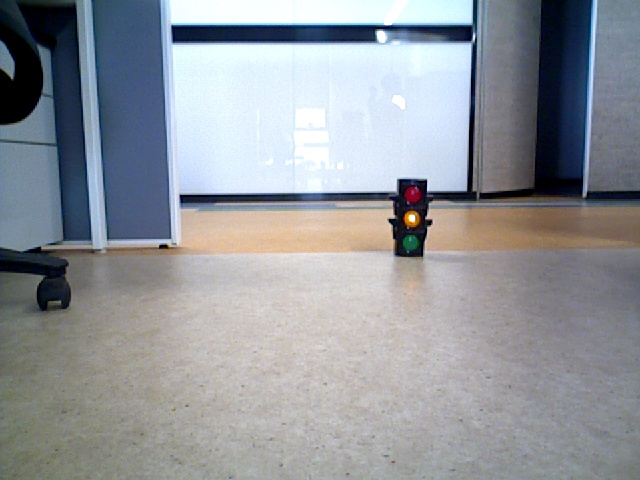yellow: (393, 180, 427, 256)
